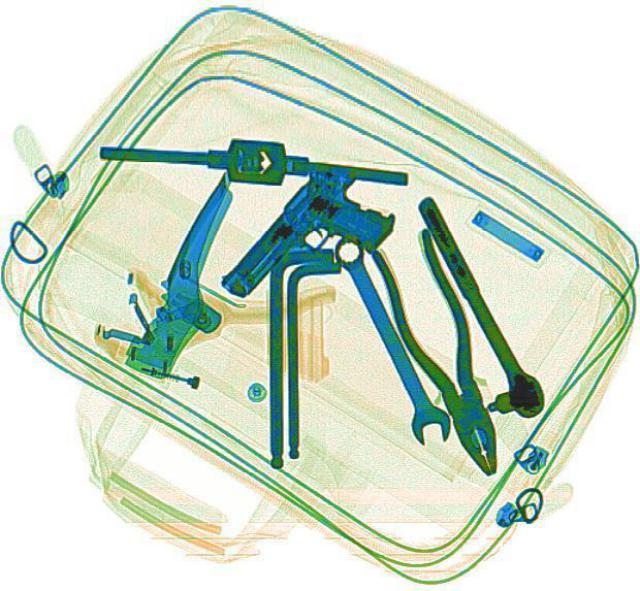Gun: (207, 156, 407, 333)
Pliers: (362, 225, 528, 482)
Wrench: (322, 230, 456, 447)
